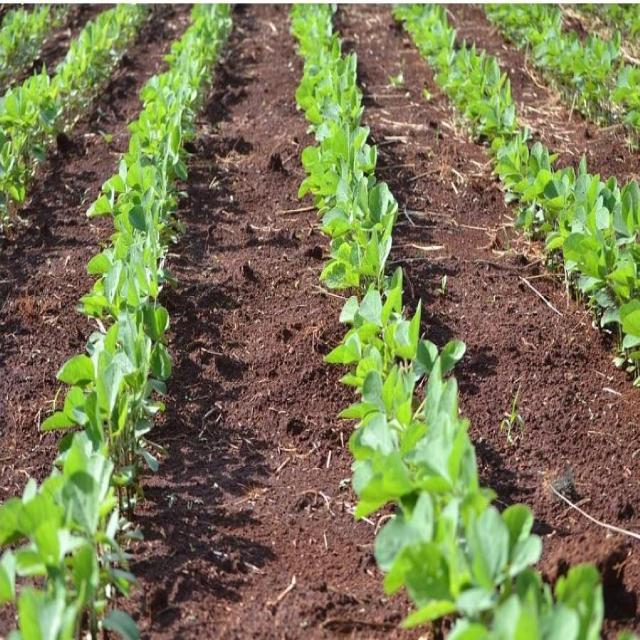row: (101, 2, 418, 640), (337, 2, 640, 640), (0, 0, 196, 635), (447, 1, 640, 186), (0, 1, 111, 124)
